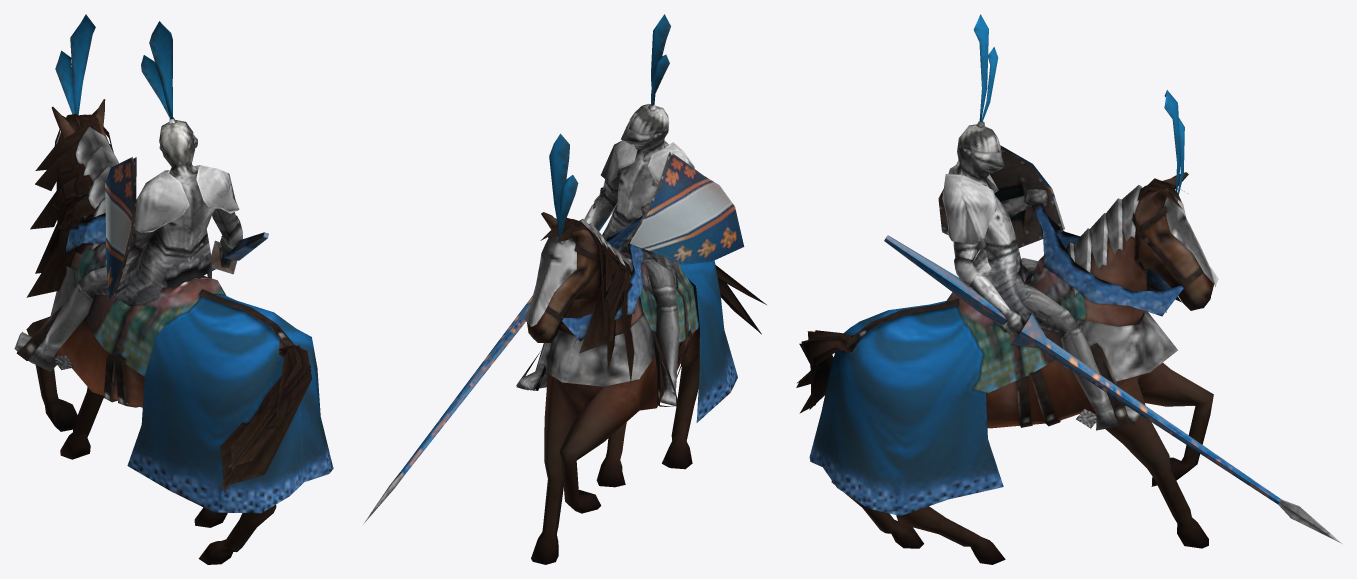
The model's file is Knights.glb.
3 renders of one model, left to right at view 1: azimuth 30°, elevation 25°; view 2: azimuth 150°, elevation 25°; view 3: azimuth 270°, elevation 25°, orthographic. The views are drawn at different scales.
Visible parts, largest first — view 1: Horse, Cloth, Man, Shield, Armor, Spear; view 2: Horse, Man, Shield, Cloth, Armor, Spear; view 3: Cloth, Horse, Man, Armor, Spear, Shield.
Part boxes in pixels (x1=…): Horse: x1=26, y1=14, x2=312, y2=564; Cloth: x1=16, y1=213, x2=333, y2=513; Man: x1=14, y1=21, x2=242, y2=371; Shield: x1=105, y1=157, x2=136, y2=299; Armor: x1=50, y1=127, x2=118, y2=316; Spear: x1=211, y1=232, x2=268, y2=274; Horse: x1=525, y1=133, x2=766, y2=564; Man: x1=516, y1=14, x2=694, y2=406; Shield: x1=627, y1=151, x2=744, y2=264; Cloth: x1=516, y1=215, x2=737, y2=422; Armor: x1=542, y1=219, x2=655, y2=386; Spear: x1=363, y1=214, x2=610, y2=524; Cloth: x1=809, y1=203, x2=1183, y2=515; Horse: x1=796, y1=90, x2=1218, y2=564; Man: x1=942, y1=14, x2=1140, y2=430; Armor: x1=1063, y1=185, x2=1177, y2=381; Spear: x1=884, y1=235, x2=1341, y2=543; Shield: x1=938, y1=145, x2=1064, y2=248.
Bounding box in the file's own units: 1.41 × 3.09 × 2.95.
2 materials, 2 textured.
